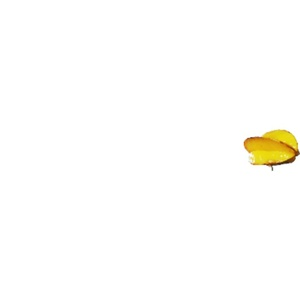carambola: (244, 130, 300, 171)
